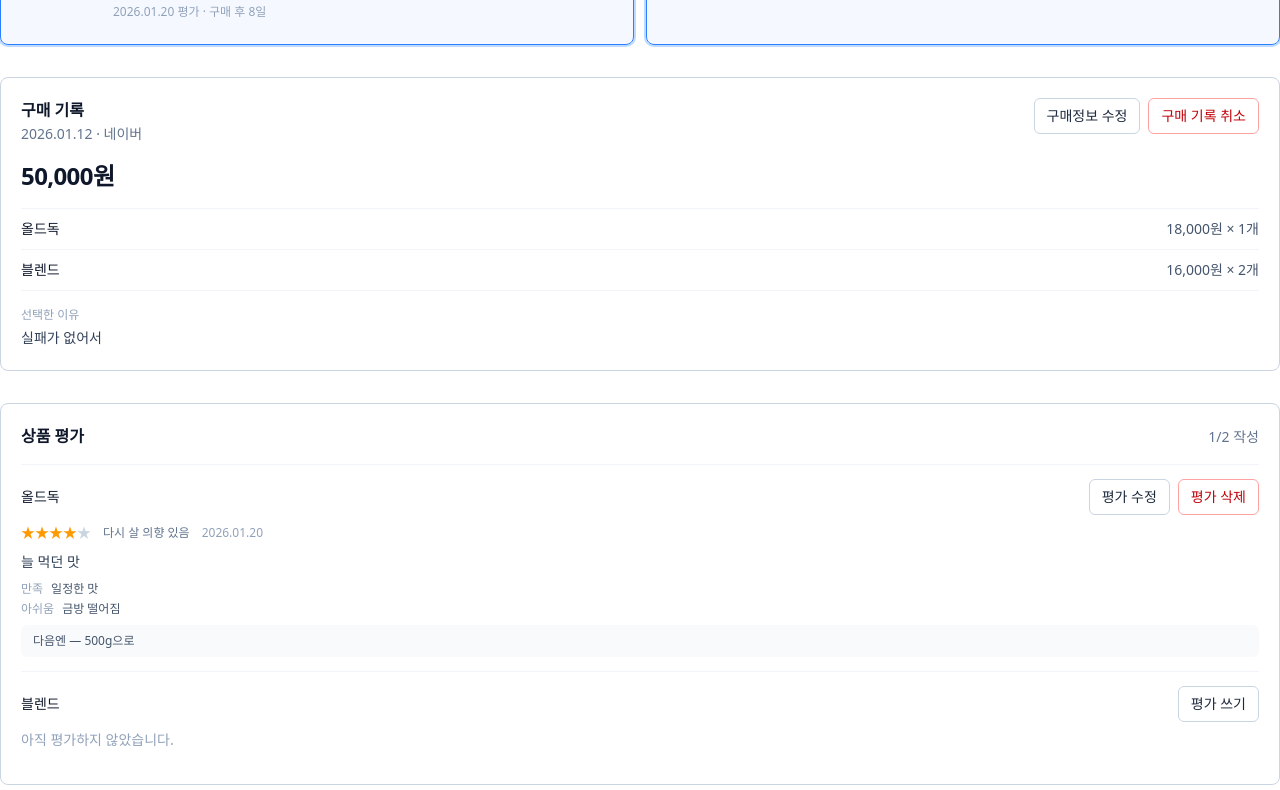
블록 44 — 평가 쓰기 › 저장하면 상태가 구매 완료에서 평가 완료로 간다
The image size is (1280, 790).
(page scrolled)
Click the button "평가 쓰기": (1218, 704) top-left (1178, 686), bottom-right (1259, 722)
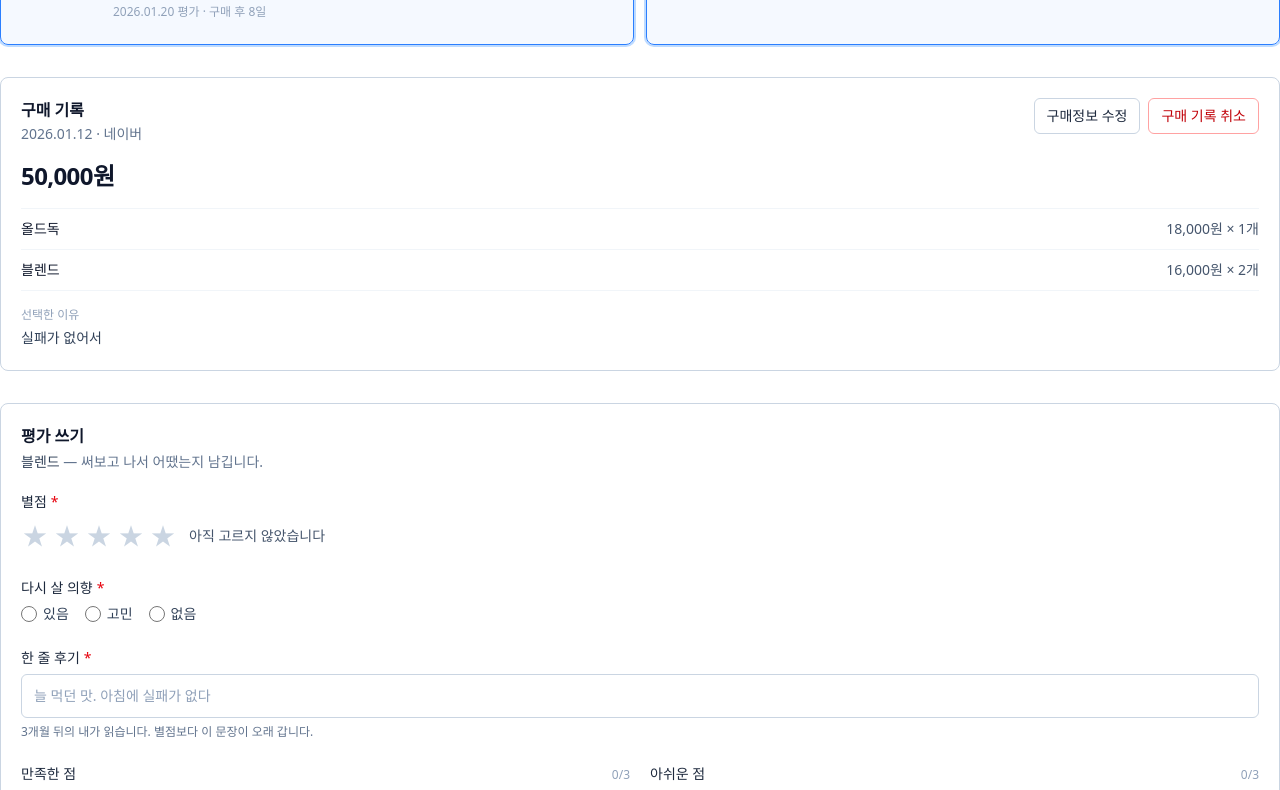
Click the radio button named "3점": (99, 536) top-left (85, 518), bottom-right (113, 554)
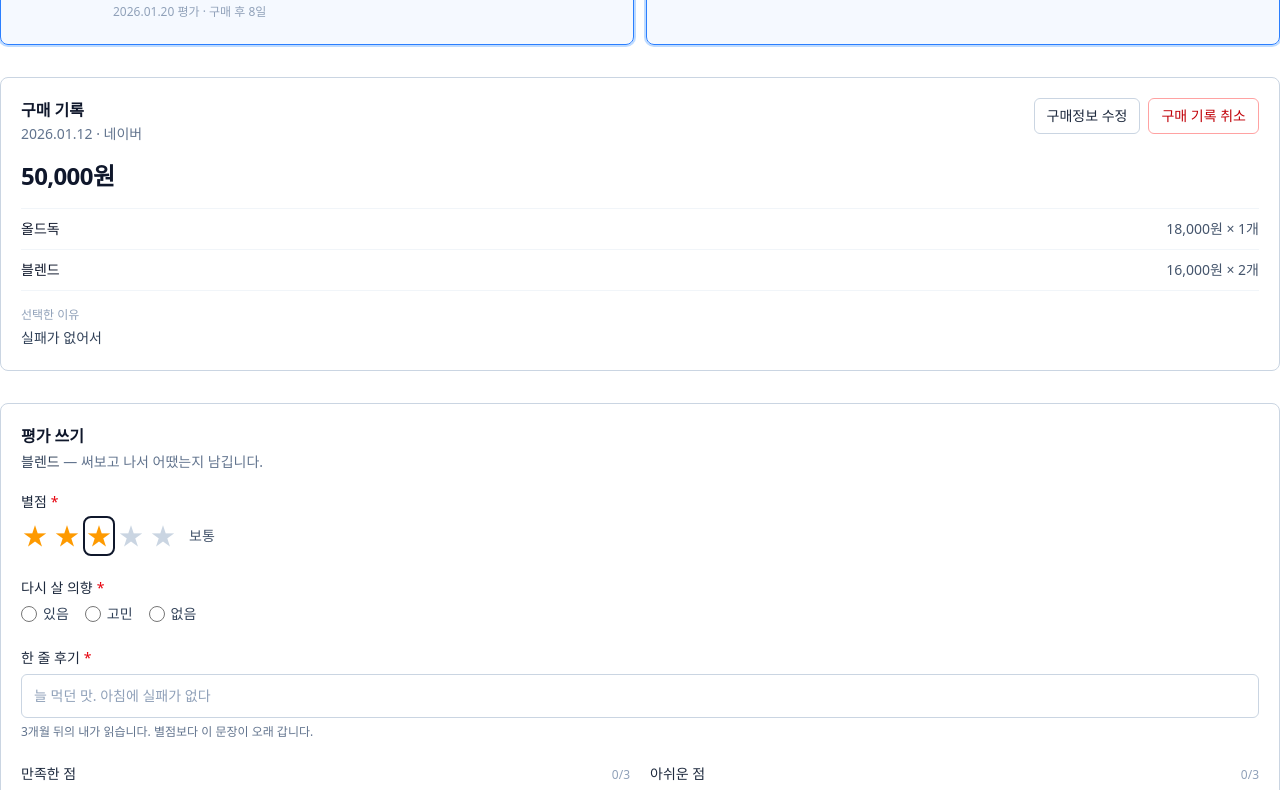
Click the radio button labelled "고민": (93, 614) top-left (85, 606), bottom-right (101, 622)
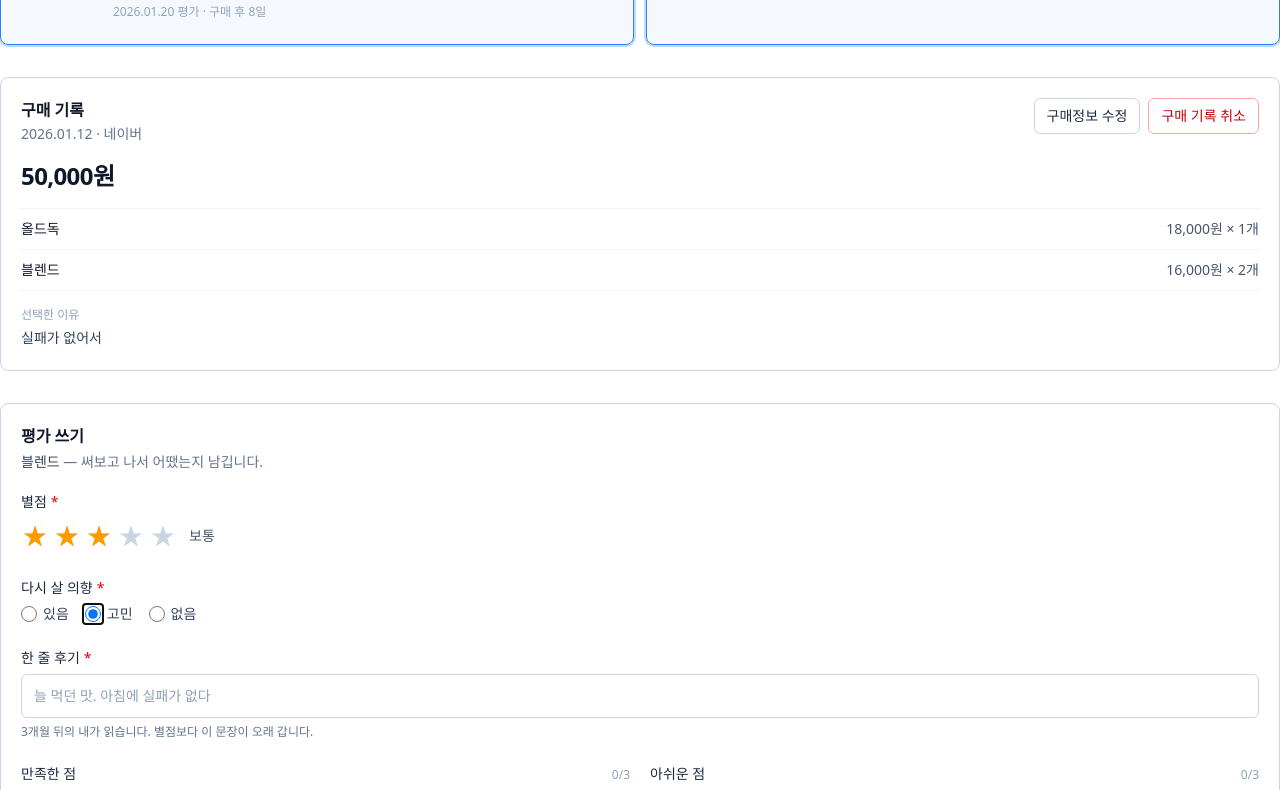
In the field labelled "한 줄 후기*": (640, 696) top-left (21, 674), bottom-right (1259, 718), type "산미가 있었다"
(page scrolled)
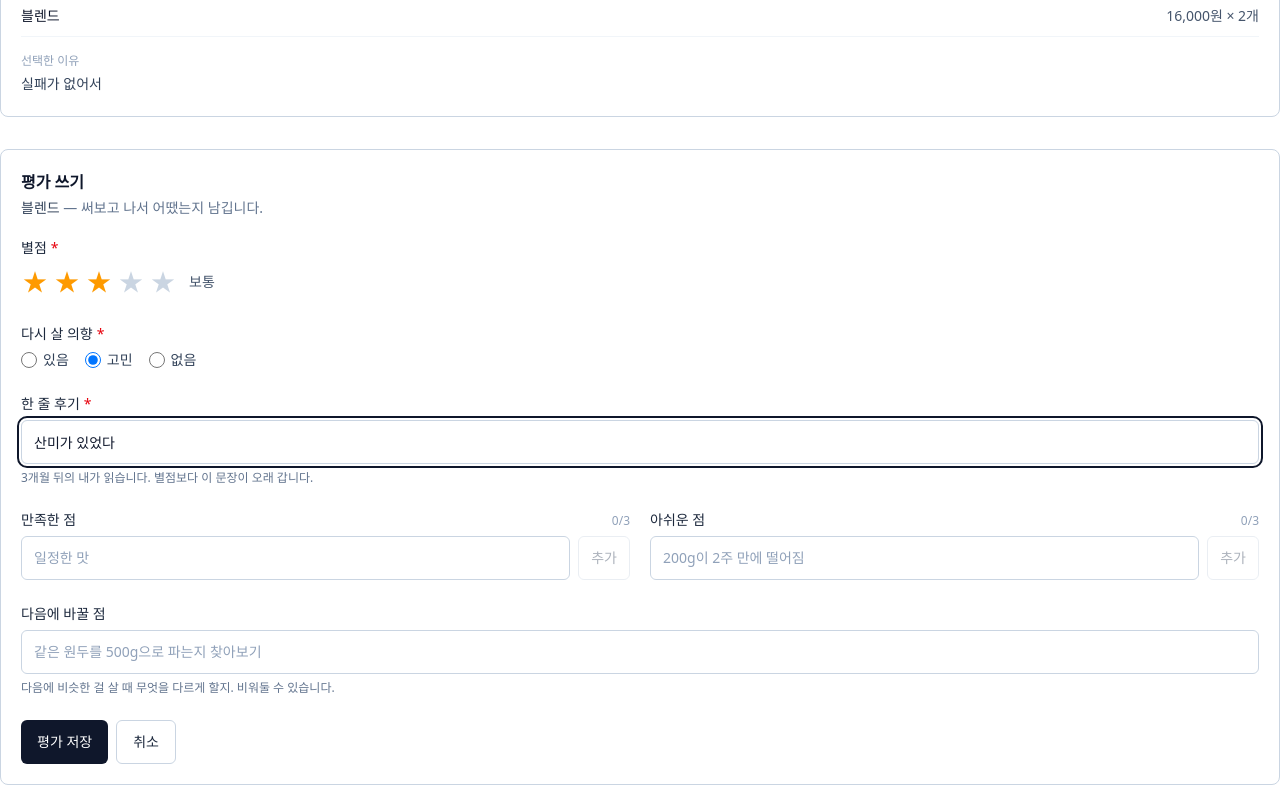
Click the button "평가 저장": (65, 742) top-left (21, 720), bottom-right (108, 764)
(page scrolled)
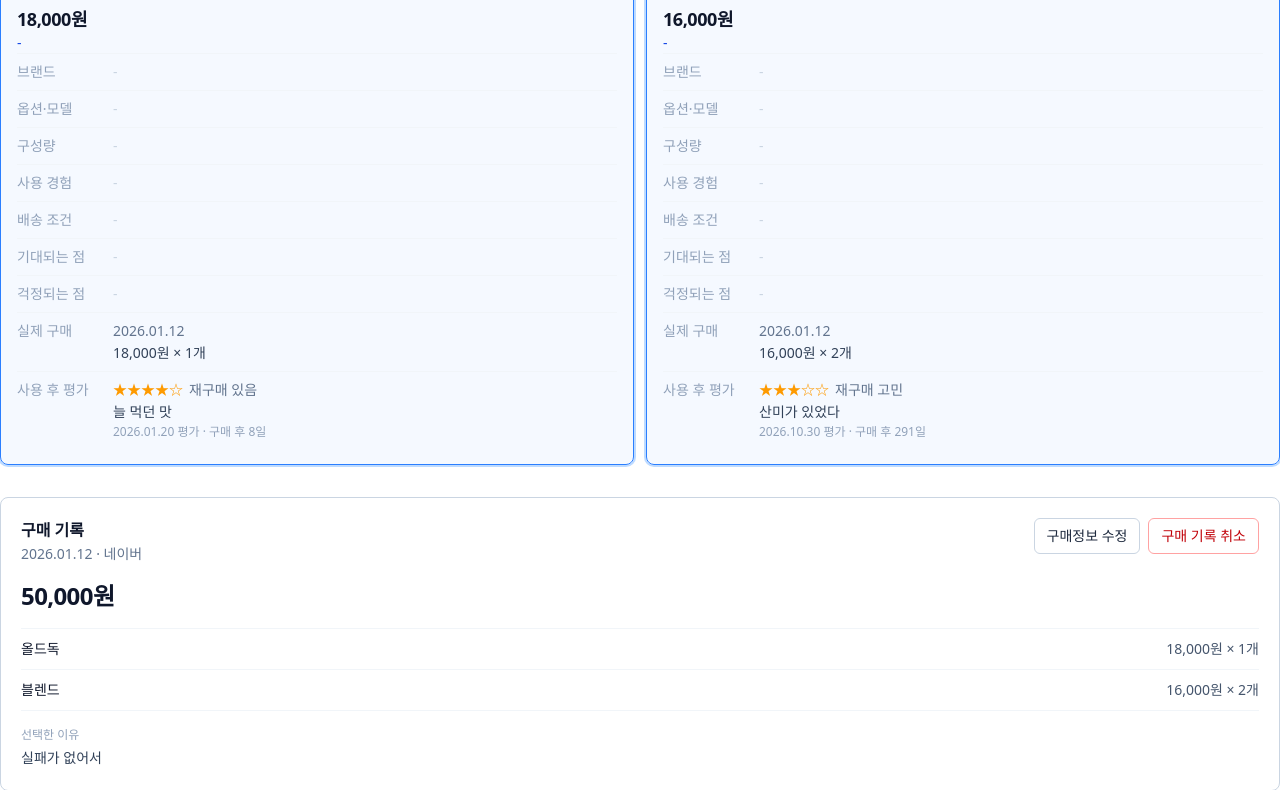
Check: the text "산미가 있었다" is shown, box top-left (759, 402), bottom-right (840, 421)
